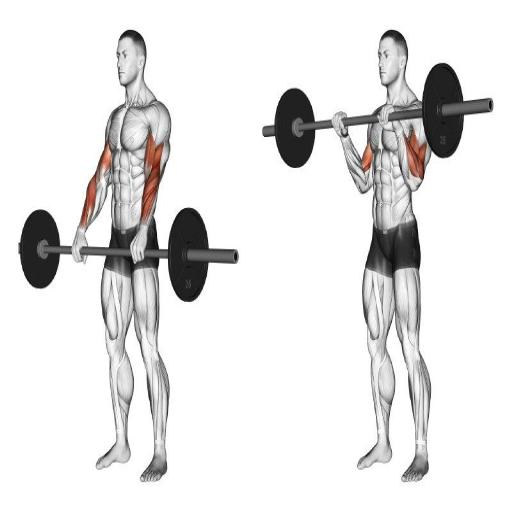exercise: (69, 27, 173, 485), (330, 28, 434, 485)
